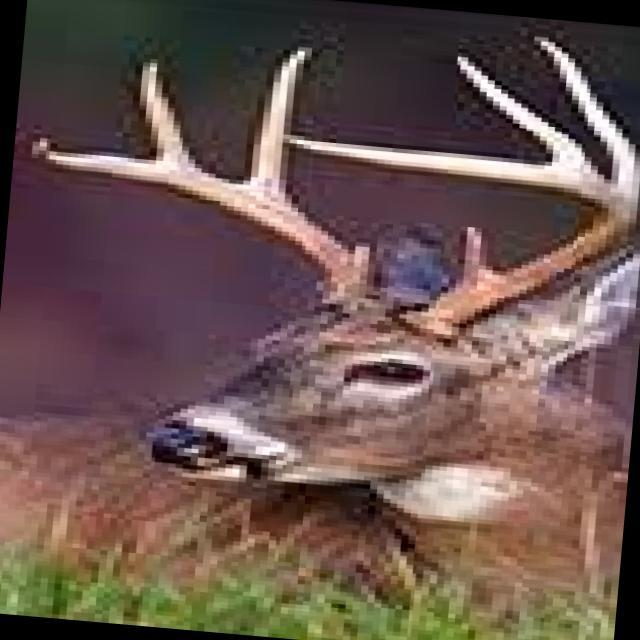L-F: (282, 135, 638, 342)
L-G1: (459, 225, 490, 282)
L-G2: (532, 34, 640, 212)
L-G3: (456, 55, 599, 174)
R-G1: (349, 242, 377, 282)
R-G2: (248, 46, 313, 199)
R-G3: (138, 58, 192, 162)
